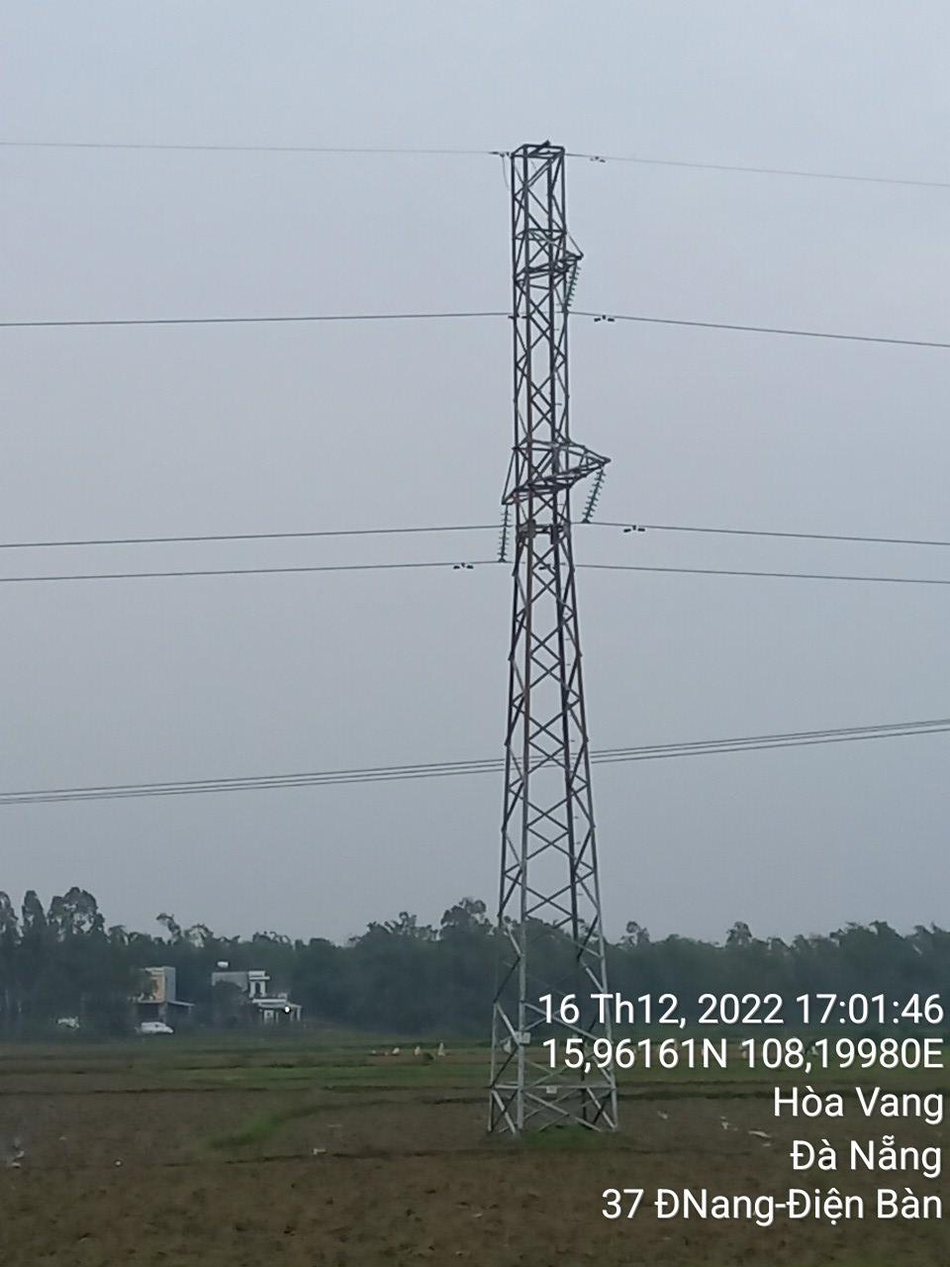power_tower: (445, 115, 635, 982)
